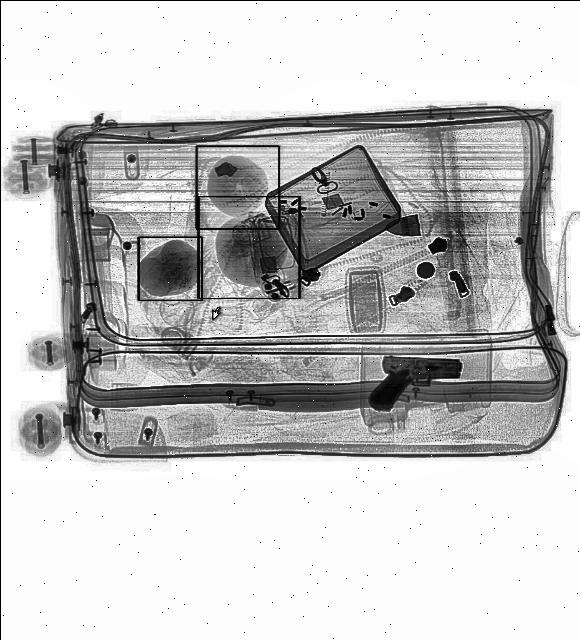Gun: (368, 357, 462, 413)
